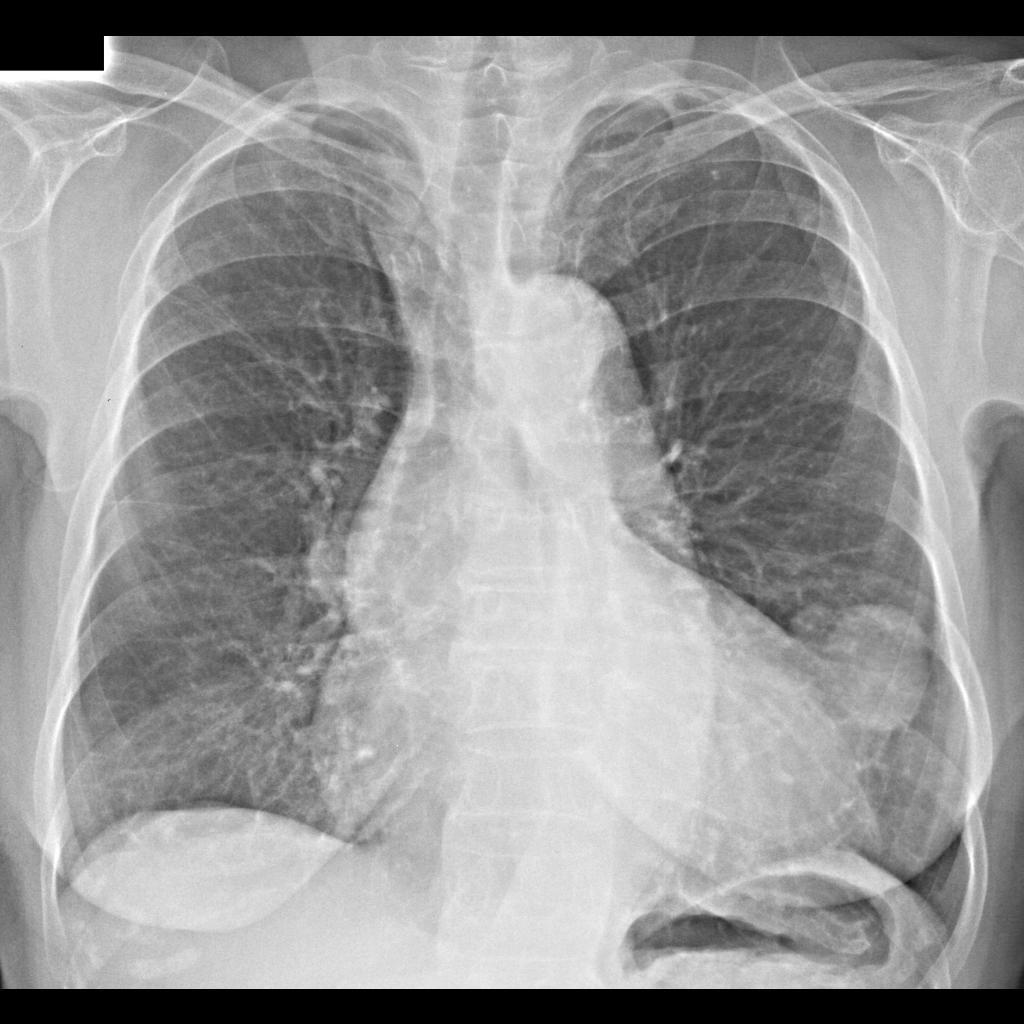Nodule: (821, 613, 932, 724)
